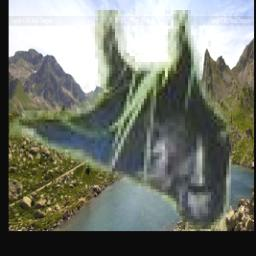Crow: (11, 10, 232, 231)
